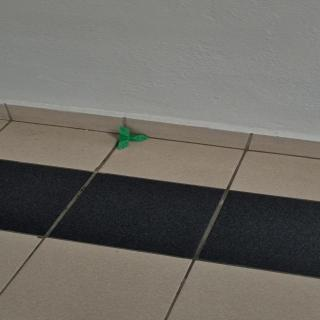eje: (116, 126, 150, 150)
